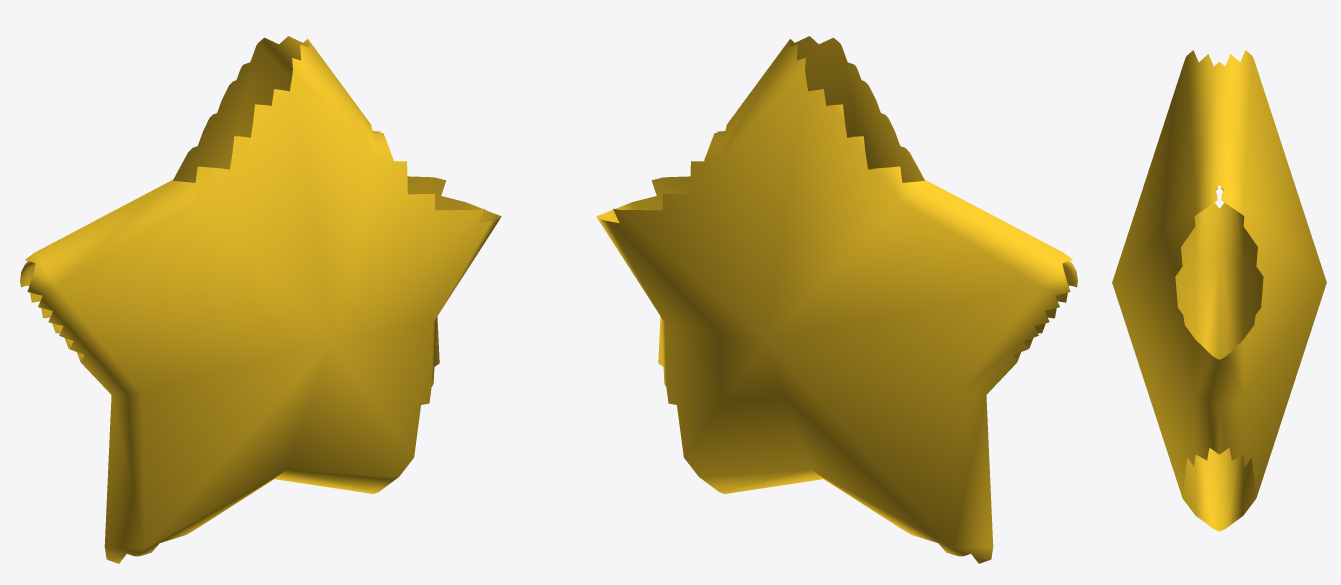
The model's file is star.fbx.
3 renders of one model, left to right at view 1: azimuth 30°, elevation 25°; view 2: azimuth 150°, elevation 25°; view 3: azimuth 270°, elevation 25°, orthographic. The views are drawn at different scales.
Visible parts, largest first — view 1: Star; view 2: Star; view 3: Star.
Part boxes in pixels (x1=…): Star: x1=20, y1=36, x2=501, y2=563; Star: x1=596, y1=36, x2=1077, y2=563; Star: x1=1112, y1=50, x2=1326, y2=531.
Size of the model in its own units: 264 by 252 by 101.
